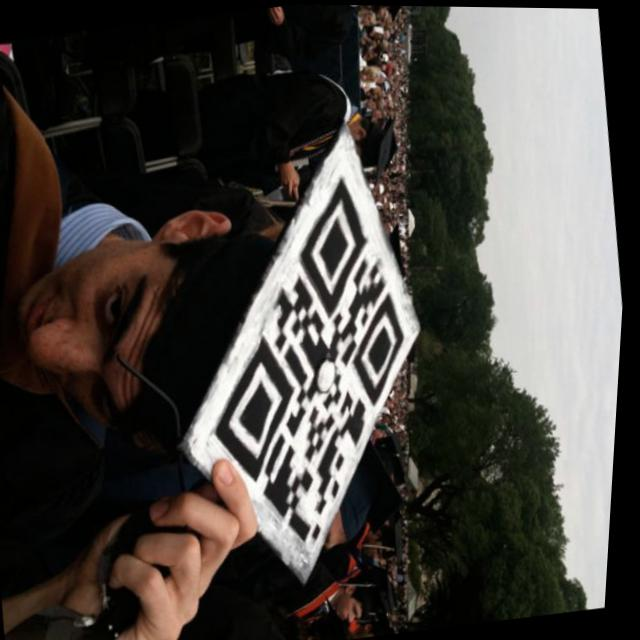qrcode: (182, 169, 445, 564)
